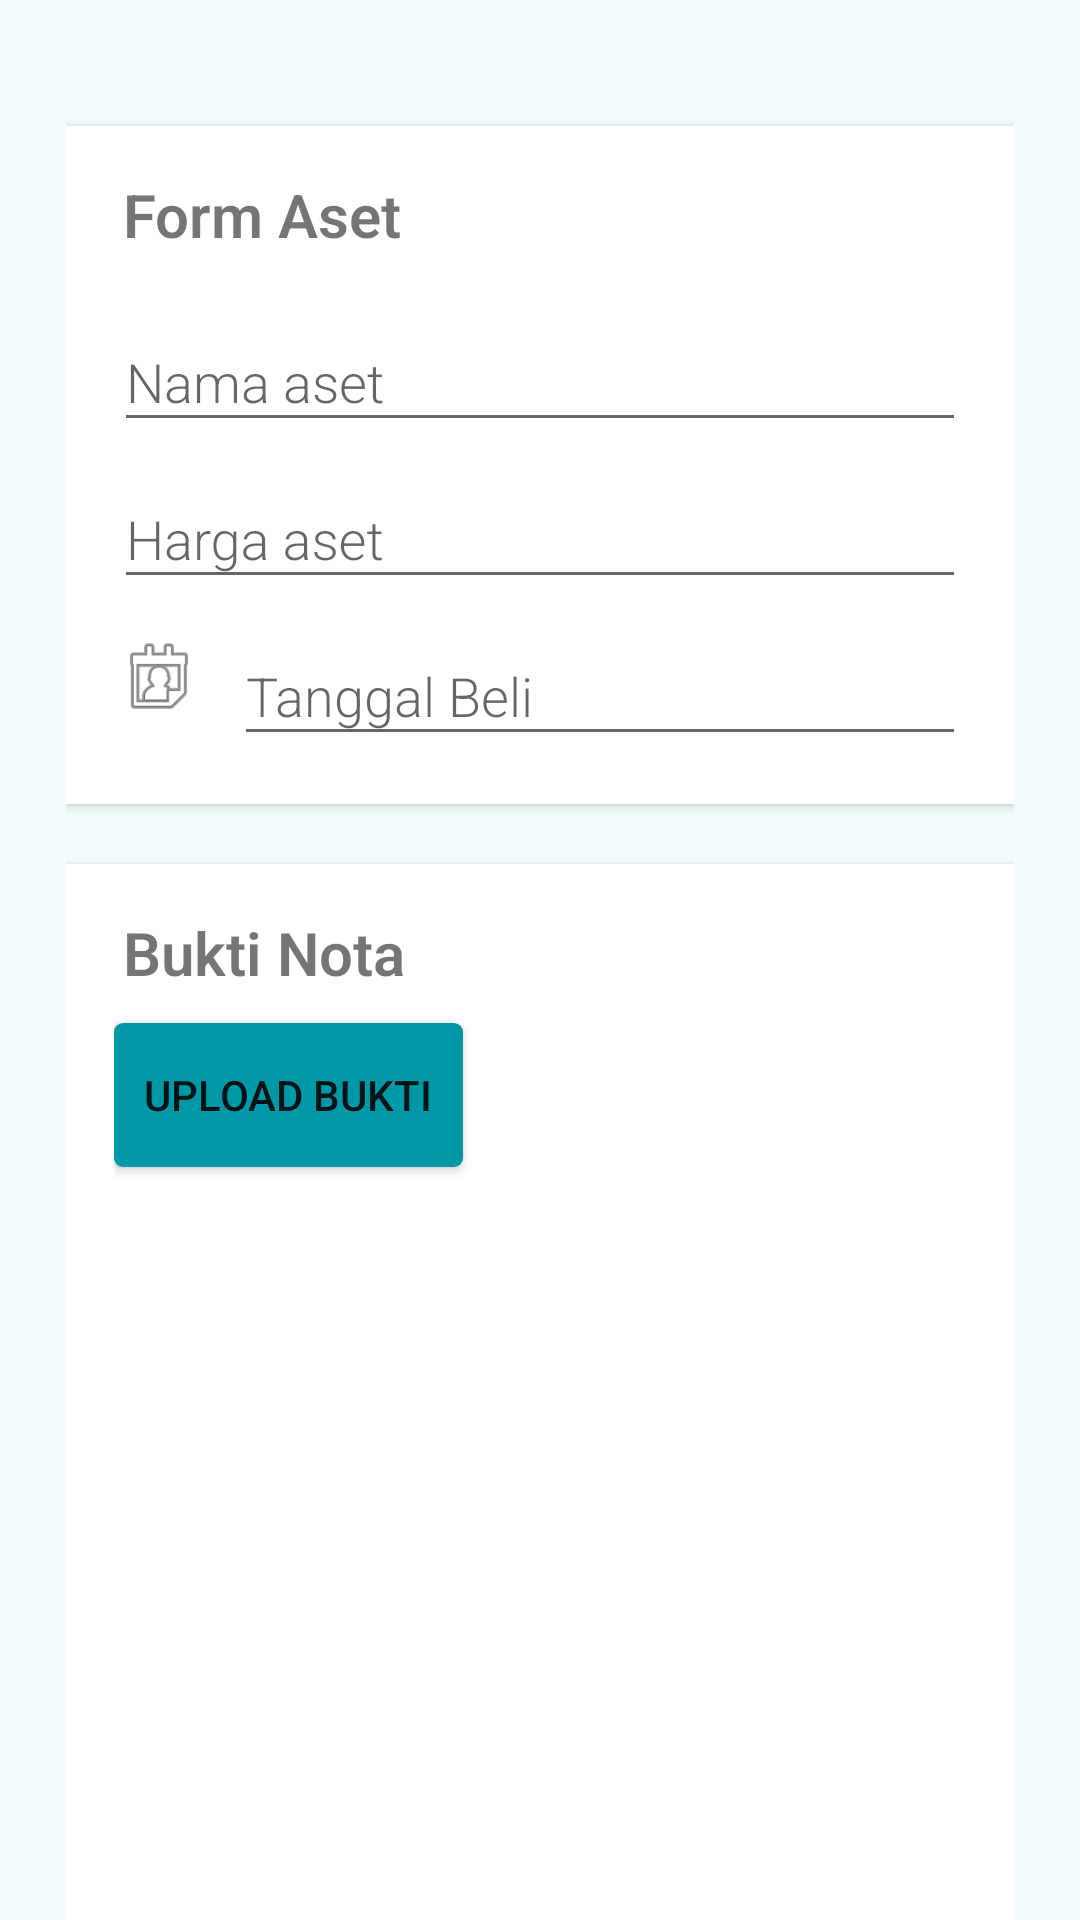

Icons on this 1080px×1920px Android screen, each with its box as region(x1, y1, x2, y2):
calendar: region(130, 643, 188, 709)
